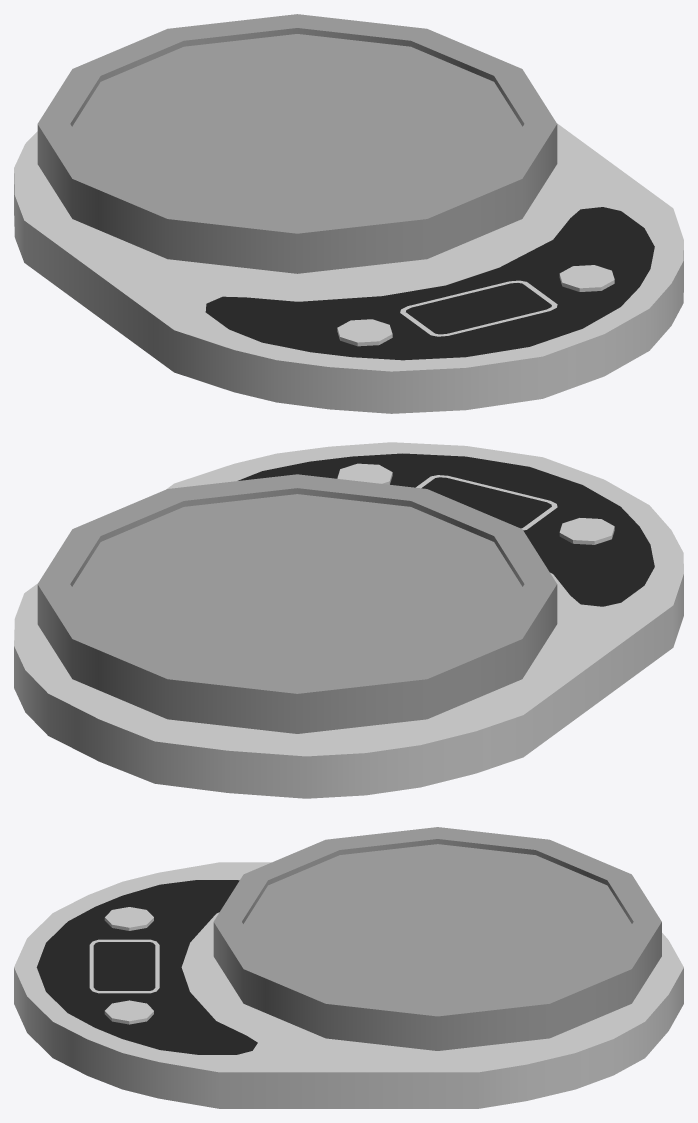
The model's file is Scale_01.fbx.
3 views of the same model, one above another, from view 1: azimuth 30°, elevation 25°; view 2: azimuth 150°, elevation 25°; view 3: azimuth 270°, elevation 25° (orthographic). The views are drawn at different scales.
Parts seen in each view (by area): view 1: Scale_01; view 2: Scale_01; view 3: Scale_01.
Boxes of the visible parts, box(x1,y1,x2,y2) form: Scale_01: box(14, 14, 683, 413); Scale_01: box(14, 442, 683, 798); Scale_01: box(14, 827, 683, 1108).
Size of the model in its own units: 0.1884 by 0.0419 by 0.2538.
